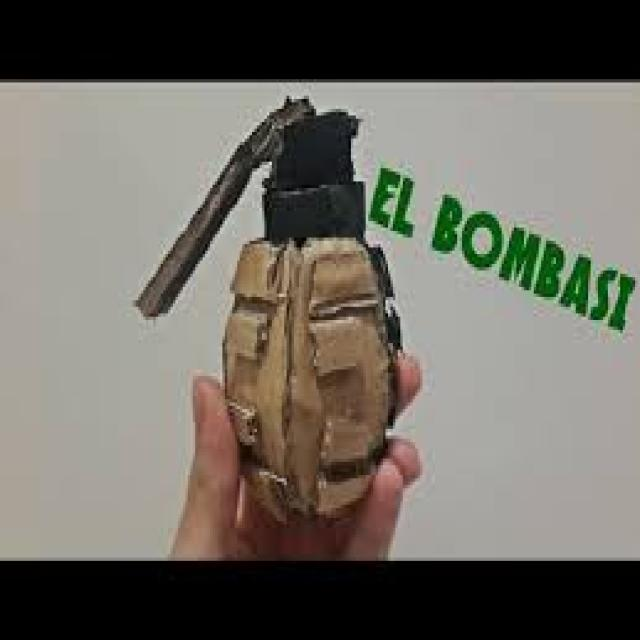grenade: (123, 95, 408, 525)
